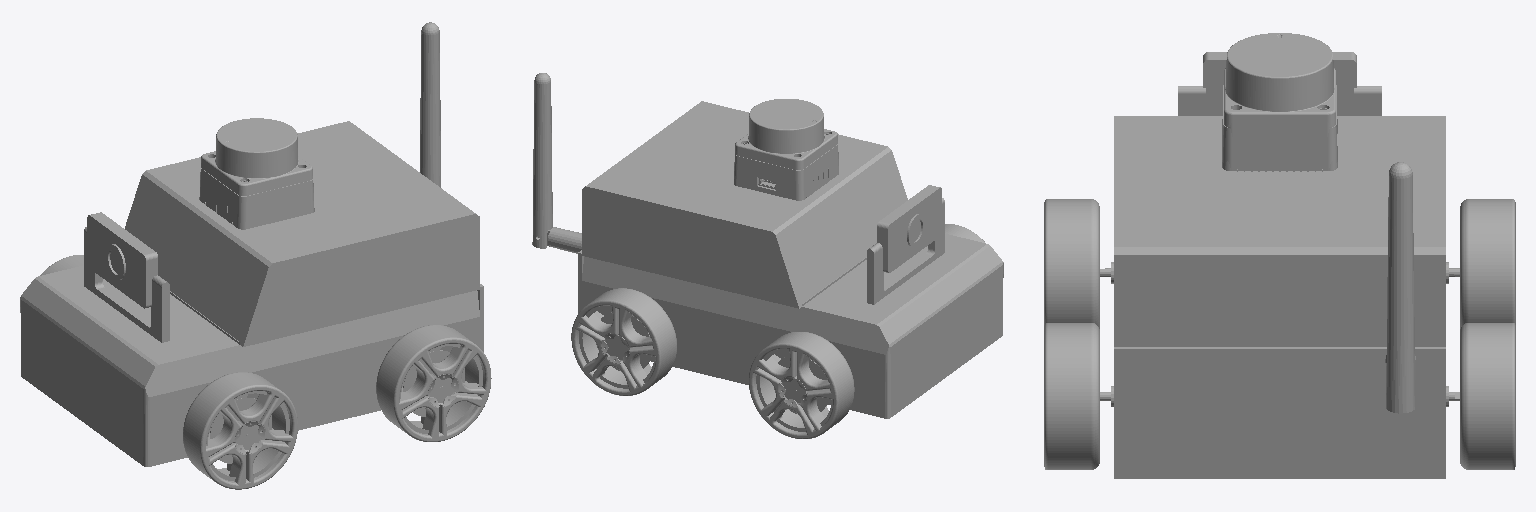
The robot description file, URDF, robot "Modelo_3D_STEP_Corregido":
<?xml version="1.0" ?>
<!-- =================================================================================== -->
<!-- |    This document was autogenerated by xacro from urdf/Modelo_3D_STEP_Corregido.xacro | -->
<!-- |    EDITING THIS FILE BY HAND IS NOT RECOMMENDED                                 | -->
<!-- =================================================================================== -->
<robot xmlns:xacro="http://www.ros.org/wiki/xacro" name="Modelo_3D_STEP_Corregido">
  <material name="silver">
    <color rgba="0.700 0.700 0.700 1.000"/>
  </material>
  <transmission name="Revoluci�n 3_tran">
    <type>transmission_interface/SimpleTransmission</type>
    <joint name="Revoluci�n 3">
      <hardwareInterface>hardware_interface/EffortJointInterface</hardwareInterface>
    </joint>
    <actuator name="Revoluci�n 3_actr">
      <hardwareInterface>hardware_interface/EffortJointInterface</hardwareInterface>
      <mechanicalReduction>1</mechanicalReduction>
    </actuator>
  </transmission>
  <transmission name="Revoluci�n 4_tran">
    <type>transmission_interface/SimpleTransmission</type>
    <joint name="Revoluci�n 4">
      <hardwareInterface>hardware_interface/EffortJointInterface</hardwareInterface>
    </joint>
    <actuator name="Revoluci�n 4_actr">
      <hardwareInterface>hardware_interface/EffortJointInterface</hardwareInterface>
      <mechanicalReduction>1</mechanicalReduction>
    </actuator>
  </transmission>
  <transmission name="Revoluci�n 5_tran">
    <type>transmission_interface/SimpleTransmission</type>
    <joint name="Revoluci�n 5">
      <hardwareInterface>hardware_interface/EffortJointInterface</hardwareInterface>
    </joint>
    <actuator name="Revoluci�n 5_actr">
      <hardwareInterface>hardware_interface/EffortJointInterface</hardwareInterface>
      <mechanicalReduction>1</mechanicalReduction>
    </actuator>
  </transmission>
  <transmission name="Revoluci�n 6_tran">
    <type>transmission_interface/SimpleTransmission</type>
    <joint name="Revoluci�n 6">
      <hardwareInterface>hardware_interface/EffortJointInterface</hardwareInterface>
    </joint>
    <actuator name="Revoluci�n 6_actr">
      <hardwareInterface>hardware_interface/EffortJointInterface</hardwareInterface>
      <mechanicalReduction>1</mechanicalReduction>
    </actuator>
  </transmission>
  <gazebo>
    <plugin name="control" filename="libgazebo_ros_control.so"/>
  </gazebo>
  <gazebo reference="base_link">
    <material>Gazebo/Silver</material>
    <mu1>0.2</mu1>
    <mu2>0.2</mu2>
    <selfCollide>true</selfCollide>
    <gravity>true</gravity>
  </gazebo>
  <gazebo reference="front_left_wheel_link_1">
    <material>Gazebo/Silver</material>
    <mu1>0.2</mu1>
    <mu2>0.2</mu2>
    <selfCollide>true</selfCollide>
  </gazebo>
  <gazebo reference="rear_left_wheel_link_1">
    <material>Gazebo/Silver</material>
    <mu1>0.2</mu1>
    <mu2>0.2</mu2>
    <selfCollide>true</selfCollide>
  </gazebo>
  <gazebo reference="front_right_wheel_link_1">
    <material>Gazebo/Silver</material>
    <mu1>0.2</mu1>
    <mu2>0.2</mu2>
    <selfCollide>true</selfCollide>
  </gazebo>
  <gazebo reference="rear_right_wheel_link_1">
    <material>Gazebo/Silver</material>
    <mu1>0.2</mu1>
    <mu2>0.2</mu2>
    <selfCollide>true</selfCollide>
  </gazebo>
  <link name="base_link">
    <inertial>
      <origin xyz="0.007075542755688884 0.00039268626018340705 -0.002336319439391987" rpy="0 0 0"/>
      <mass value="1.1564709160846736"/>
      <inertia ixx="0.00173" iyy="0.002971" izz="0.00348" ixy="-2.3e-05" iyz="-8e-06" ixz="-0.000306"/>
    </inertial>
    <visual>
      <origin xyz="0 0 0" rpy="0 0 0"/>
      <geometry>
        <mesh filename="package://Modelo_3D_STEP_Corregido_description/meshes/base_link.stl" scale="0.001 0.001 0.001"/>
      </geometry>
      <material name="silver"/>
    </visual>
    <collision>
      <origin xyz="0 0 0" rpy="0 0 0"/>
      <geometry>
        <mesh filename="package://Modelo_3D_STEP_Corregido_description/meshes/base_link.stl" scale="0.001 0.001 0.001"/>
      </geometry>
    </collision>
  </link>
  
    <!-- ======================= CAMERA ======================= -->
  <link name="Camera_link_1">
    <inertial>
      <!-- REEMPLAZAR con los valores de SolidWorks -->
      <origin xyz="0 0 0" rpy="0 0 0"/>
      <mass value="0.01"/>
      <inertia ixx="1e-05" iyy="1e-05" izz="1e-05" ixy="0" iyz="0" ixz="0"/>
    </inertial>
    <visual>
      <origin xyz="0 0 0" rpy="0 0 0"/>
      <geometry>
        <mesh filename="package://Modelo_3D_STEP_Corregido_description/meshes/Camera_link_1.stl" scale="0.001 0.001 0.001"/>
      </geometry>
      <material name="silver"/>
    </visual>
    <collision>
      <origin xyz="0 0 0" rpy="0 0 0"/>
      <geometry>
        <mesh filename="package://Modelo_3D_STEP_Corregido_description/meshes/Camera_link_1.stl" scale="0.001 0.001 0.001"/>
      </geometry>
    </collision>
  </link>

    <!-- ======================= LIDAR ======================= -->
  <link name="Lidar_link_1">
    <inertial>
      <!-- REEMPLAZAR con los valores de SolidWorks -->
      <origin xyz="0 0 0" rpy="0 0 0"/>
      <mass value="0.04"/>
      <inertia ixx="1e-04" iyy="1e-04" izz="1e-04" ixy="0" iyz="0" ixz="0"/>
    </inertial>
    <visual>
      <origin xyz="0 0 0" rpy="0 0 0"/>
      <geometry>
        <mesh filename="package://Modelo_3D_STEP_Corregido_description/meshes/Lidar_link_1.stl" scale="0.001 0.001 0.001"/>
      </geometry>
      <material name="silver"/>
    </visual>
    <collision>
      <origin xyz="0 0 0" rpy="0 0 0"/>
      <geometry>
        <mesh filename="package://Modelo_3D_STEP_Corregido_description/meshes/Lidar_link_1.stl" scale="0.001 0.001 0.001"/>
      </geometry>
    </collision>
  </link>

  <link name="front_left_wheel_link_1">
    <inertial>
      <origin xyz="2.2176810700387517e-05 -0.0006948027829993403 2.0381757375630832e-05" rpy="0 0 0"/>
      <mass value="0.10793382984070173"/>
      <inertia ixx="2.1e-05" iyy="3.7e-05" izz="2.1e-05" ixy="0.0" iyz="0.0" ixz="0.0"/>
    </inertial>
    <visual>
      <origin xyz="0.0475 0.068317 0.024831" rpy="0 0 0"/>
      <geometry>
        <mesh filename="package://Modelo_3D_STEP_Corregido_description/meshes/front_left_wheel_link_1.stl" scale="0.001 0.001 0.001"/>
      </geometry>
      <material name="silver"/>
    </visual>
    <collision>
      <origin xyz="0.0475 0.068317 0.024831" rpy="0 0 0"/>
      <geometry>
        <mesh filename="package://Modelo_3D_STEP_Corregido_description/meshes/front_left_wheel_link_1.stl" scale="0.001 0.001 0.001"/>
      </geometry>
    </collision>
  </link>

  <link name="rear_left_wheel_link_1">
    <inertial>
      <origin xyz="2.217681070048466e-05 -0.0006948027829993403 2.0381757387832877e-05" rpy="0 0 0"/>
      <mass value="0.10793382984070173"/>
      <inertia ixx="2.1e-05" iyy="3.7e-05" izz="2.1e-05" ixy="0.0" iyz="0.0" ixz="0.0"/>
    </inertial>
    <visual>
      <origin xyz="-0.0475 0.068317 0.024831" rpy="0 0 0"/>
      <geometry>
        <mesh filename="package://Modelo_3D_STEP_Corregido_description/meshes/rear_left_wheel_link_1.stl" scale="0.001 0.001 0.001"/>
      </geometry>
      <material name="silver"/>
    </visual>
    <collision>
      <origin xyz="-0.0475 0.068317 0.024831" rpy="0 0 0"/>
      <geometry>
        <mesh filename="package://Modelo_3D_STEP_Corregido_description/meshes/rear_left_wheel_link_1.stl" scale="0.001 0.001 0.001"/>
      </geometry>
    </collision>
  </link>

  <link name="front_right_wheel_link_1">
    <inertial>
      <origin xyz="2.217681070048466e-05 0.0006947783724104706 -1.987530296061052e-05" rpy="0 0 0"/>
      <mass value="0.10793382984070173"/>
      <inertia ixx="2.1e-05" iyy="3.7e-05" izz="2.1e-05" ixy="-0.0" iyz="0.0" ixz="-0.0"/>
    </inertial>
    <visual>
      <origin xyz="0.0475 -0.068683 0.024831" rpy="0 0 0"/>
      <geometry>
        <mesh filename="package://Modelo_3D_STEP_Corregido_description/meshes/front_right_wheel_link_1.stl" scale="0.001 0.001 0.001"/>
      </geometry>
      <material name="silver"/>
    </visual>
    <collision>
      <origin xyz="0.0475 -0.068683 0.024831" rpy="0 0 0"/>
      <geometry>
        <mesh filename="package://Modelo_3D_STEP_Corregido_description/meshes/front_right_wheel_link_1.stl" scale="0.001 0.001 0.001"/>
      </geometry>
    </collision>
  </link>

  <link name="rear_right_wheel_link_1">
    <inertial>
      <origin xyz="2.21768107004916e-05 0.0006947783724105122 -1.987530296061399e-05" rpy="0 0 0"/>
      <mass value="0.10793382984070173"/>
      <inertia ixx="2.1e-05" iyy="3.7e-05" izz="2.1e-05" ixy="-0.0" iyz="0.0" ixz="-0.0"/>
    </inertial>
    <visual>
      <origin xyz="-0.0475 -0.068683 0.024831" rpy="0 0 0"/>
      <geometry>
        <mesh filename="package://Modelo_3D_STEP_Corregido_description/meshes/rear_right_wheel_link_1.stl" scale="0.001 0.001 0.001"/>
      </geometry>
      <material name="silver"/>
    </visual>
    <collision>
      <origin xyz="-0.0475 -0.068683 0.024831" rpy="0 0 0"/>
      <geometry>
        <mesh filename="package://Modelo_3D_STEP_Corregido_description/meshes/rear_right_wheel_link_1.stl" scale="0.001 0.001 0.001"/>
      </geometry>
    </collision>
  </link>
  
  <!-- ======================= JOINTS ======================= -->
  
  <joint name="camera_joint" type="fixed">
    <origin xyz="0 0 0" rpy="0 0 0"/>
    <parent link="base_link"/>
    <child link="Camera_link_1"/>
  </joint>

  <joint name="lidar_joint" type="fixed">
    <origin xyz="0 0 0" rpy="0 0 0"/>
    <parent link="base_link"/>
    <child link="Lidar_link_1"/>
  </joint>

  <joint name="Revoluci�n 3" type="continuous">
    <origin xyz="-0.0475 -0.068317 -0.024831" rpy="0 0 0"/>
    <parent link="base_link"/>
    <child link="front_left_wheel_link_1"/>
    <axis xyz="0.0 -1.0 -0.0"/>
  </joint>

  <joint name="Revoluci�n 4" type="continuous">
    <origin xyz="0.0475 -0.068317 -0.024831" rpy="0 0 0"/>
    <parent link="base_link"/>
    <child link="rear_left_wheel_link_1"/>
    <axis xyz="0.0 -1.0 -0.0"/>
  </joint>

  <joint name="Revoluci�n 5" type="continuous">
    <origin xyz="-0.0475 0.068683 -0.024831" rpy="0 0 0"/>
    <parent link="base_link"/>
    <child link="front_right_wheel_link_1"/>
    <axis xyz="-0.0 -1.0 0.0"/>
  </joint>

  <joint name="Revoluci�n 6" type="continuous">
    <origin xyz="0.0475 0.068683 -0.024831" rpy="0 0 0"/>
    <parent link="base_link"/>
    <child link="rear_right_wheel_link_1"/>
    <axis xyz="-0.0 -1.0 -0.0"/>
  </joint>
</robot>

--- Render facts (derived) ---
3 views of the same robot in one strip: view 1: azimuth 30°, elevation 25°; view 2: azimuth 150°, elevation 25°; view 3: azimuth 270°, elevation 25° (orthographic).
Robot: Modelo_3D_STEP_Corregido — 7 links, 6 joints (4 continuous, 2 fixed); root link base_link; default pose: all joints at 0.
Links seen in each view (by area): view 1: base_link, front_left_wheel_link_1, rear_left_wheel_link_1, Lidar_link_1, Camera_link_1; view 2: base_link, rear_right_wheel_link_1, front_right_wheel_link_1, Lidar_link_1, Camera_link_1; view 3: base_link, Lidar_link_1, rear_left_wheel_link_1, rear_right_wheel_link_1, front_left_wheel_link_1, front_right_wheel_link_1, Camera_link_1.
Boxes of the visible links, x1=… form: base_link: x1=20, y1=22, x2=483, y2=466; front_left_wheel_link_1: x1=183, y1=372, x2=297, y2=489; rear_left_wheel_link_1: x1=376, y1=325, x2=491, y2=441; Lidar_link_1: x1=199, y1=118, x2=314, y2=229; Camera_link_1: x1=84, y1=212, x2=169, y2=342; base_link: x1=532, y1=73, x2=1003, y2=418; rear_right_wheel_link_1: x1=571, y1=288, x2=676, y2=395; front_right_wheel_link_1: x1=749, y1=332, x2=854, y2=438; Lidar_link_1: x1=734, y1=99, x2=838, y2=200; Camera_link_1: x1=867, y1=185, x2=944, y2=304; base_link: x1=1100, y1=116, x2=1459, y2=478; Lidar_link_1: x1=1222, y1=33, x2=1337, y2=171; rear_left_wheel_link_1: x1=1044, y1=323, x2=1099, y2=469; rear_right_wheel_link_1: x1=1460, y1=323, x2=1515, y2=469; front_left_wheel_link_1: x1=1044, y1=199, x2=1099, y2=328; front_right_wheel_link_1: x1=1460, y1=199, x2=1515, y2=328; Camera_link_1: x1=1178, y1=52, x2=1381, y2=115.
Size in the robot's own frame: 0.1986 by 0.153 by 0.1357 metres.
Meshes: 7 distinct files referenced, 7 mesh visuals loaded (7 binary STL).
